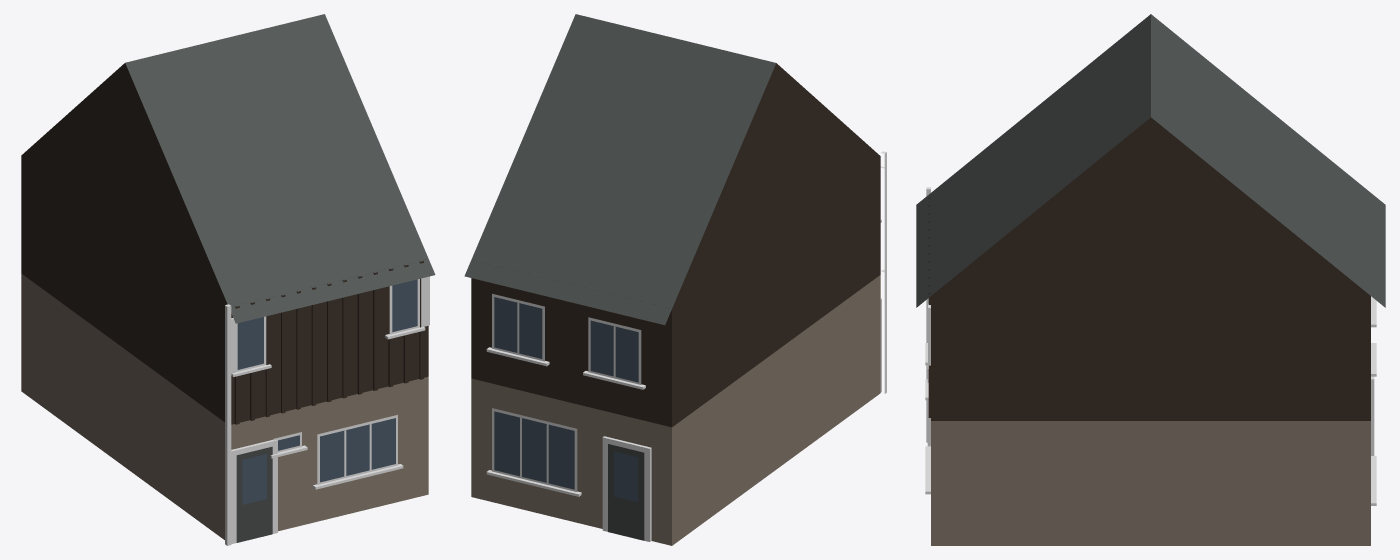
Rendered from zo-g3-timber-brick__timber__2__gable__long__solid__mirror.glb.
The picture shows the model from 3 angles, left to right: view 1: azimuth 30°, elevation 25°; view 2: azimuth 150°, elevation 25°; view 3: azimuth 270°, elevation 25°; orthographic projection. The views are drawn at different scales.
Visible parts, largest first — view 1: zo-g3-timber-brick__timber__2__gable__long__solid__mirror; view 2: zo-g3-timber-brick__timber__2__gable__long__solid__mirror; view 3: zo-g3-timber-brick__timber__2__gable__long__solid__mirror.
Boxes of the visible parts, bbox=[...] form: zo-g3-timber-brick__timber__2__gable__long__solid__mirror: bbox=[21, 14, 435, 545]; zo-g3-timber-brick__timber__2__gable__long__solid__mirror: bbox=[464, 14, 886, 545]; zo-g3-timber-brick__timber__2__gable__long__solid__mirror: bbox=[916, 14, 1385, 545].
Size of the model in its own units: 5.1 by 9.68 by 9.6.
